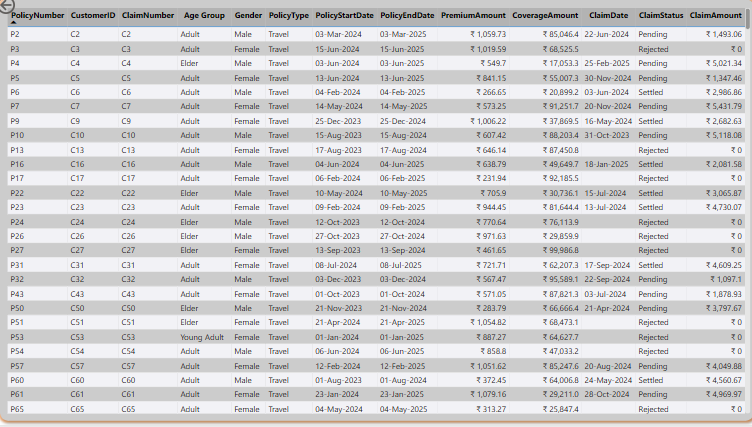

What the dashboard file says about the page in this screenshot:
{"tool":"powerbi","page":{"name":"Details Table","canvas":[1280,720],"ordinal":1},"visuals":[{"type":"tableEx","fields":{"Values":["Data.PolicyNumber","Data.CustomerID","Data.ClaimNumber","Data.Age Group","Data.Gender","Data.PolicyType","Data.PolicyStartDate","Data.PolicyEndDate","Data.PremiumAmount","Data.CoverageAmount","Data.ClaimDate","Data.ClaimStatus"]},"box":[17,20,1249,686],"z":0},{"type":"actionButton","box":[0,0,100,40],"z":1000}]}

Visuals, with their boxes in screenshot pixels (x1, y1, x2, y2), scaled from the page's 1280x720 canvas onto the 752x427 screenshot:
tableEx - Data.PolicyNumber x Data.CustomerID: [left=10, top=12, right=744, bottom=419]
actionButton: [left=0, top=0, right=59, bottom=24]
